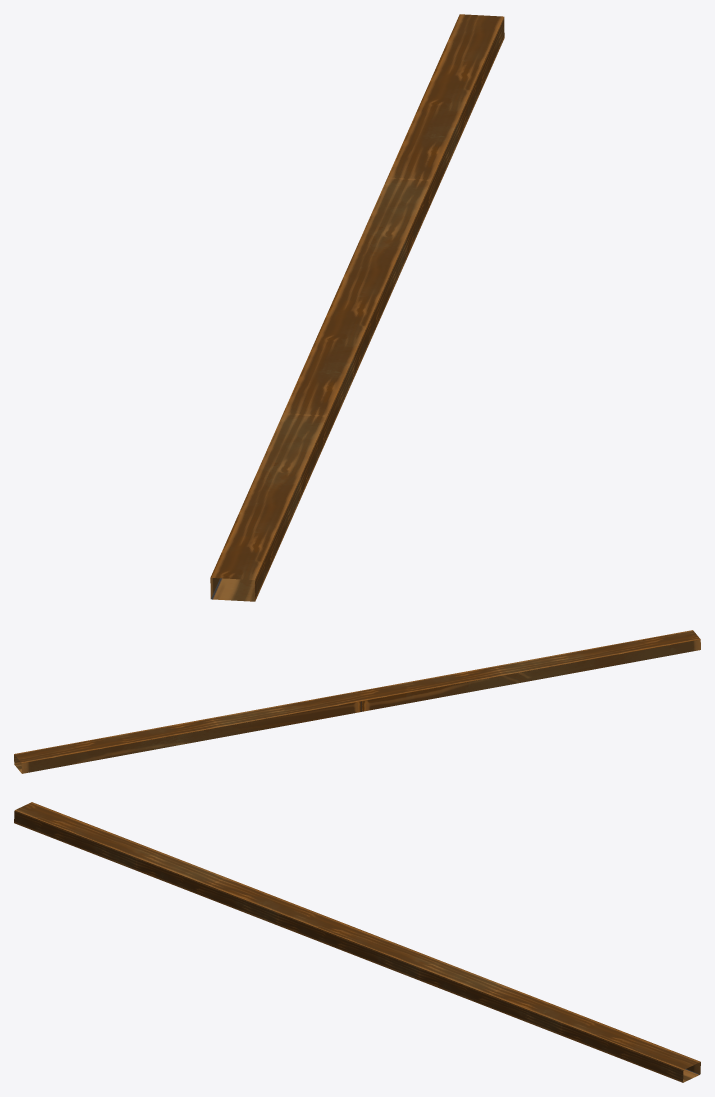
3 views of the same model, one above another, from view 1: azimuth 30°, elevation 25°; view 2: azimuth 150°, elevation 25°; view 3: azimuth 270°, elevation 25° (orthographic). The views are drawn at different scales.
Parts seen in each view (by area): view 1: Cube.2073; view 2: Cube.2073; view 3: Cube.2073.
Boxes of the visible parts, x1,y1,x2,y2 form: Cube.2073: [210, 14, 504, 601]; Cube.2073: [14, 630, 700, 773]; Cube.2073: [14, 802, 700, 1082].
Bounding box in the file's own units: 491 × 34.03 × 580.
1 material, 1 textured.
